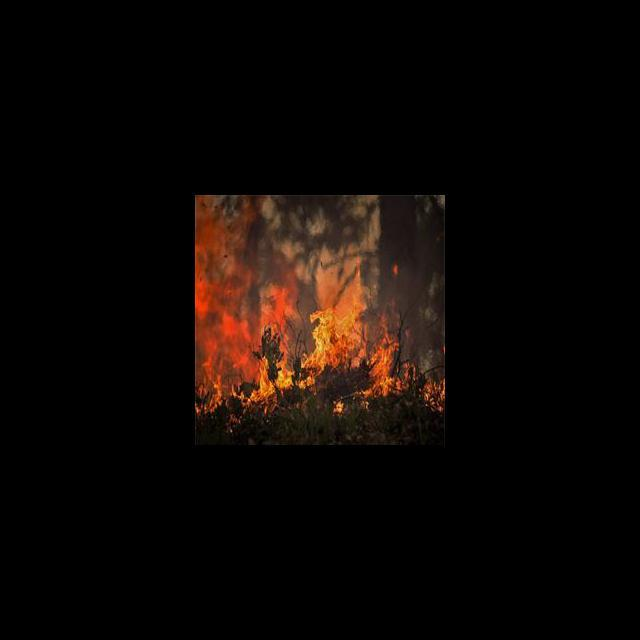Fire: (195, 199, 444, 417)
